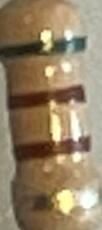Brown: (6, 79, 86, 113), (10, 132, 91, 164)
Green: (2, 33, 87, 63)
Side-Silver: (11, 178, 102, 220)
